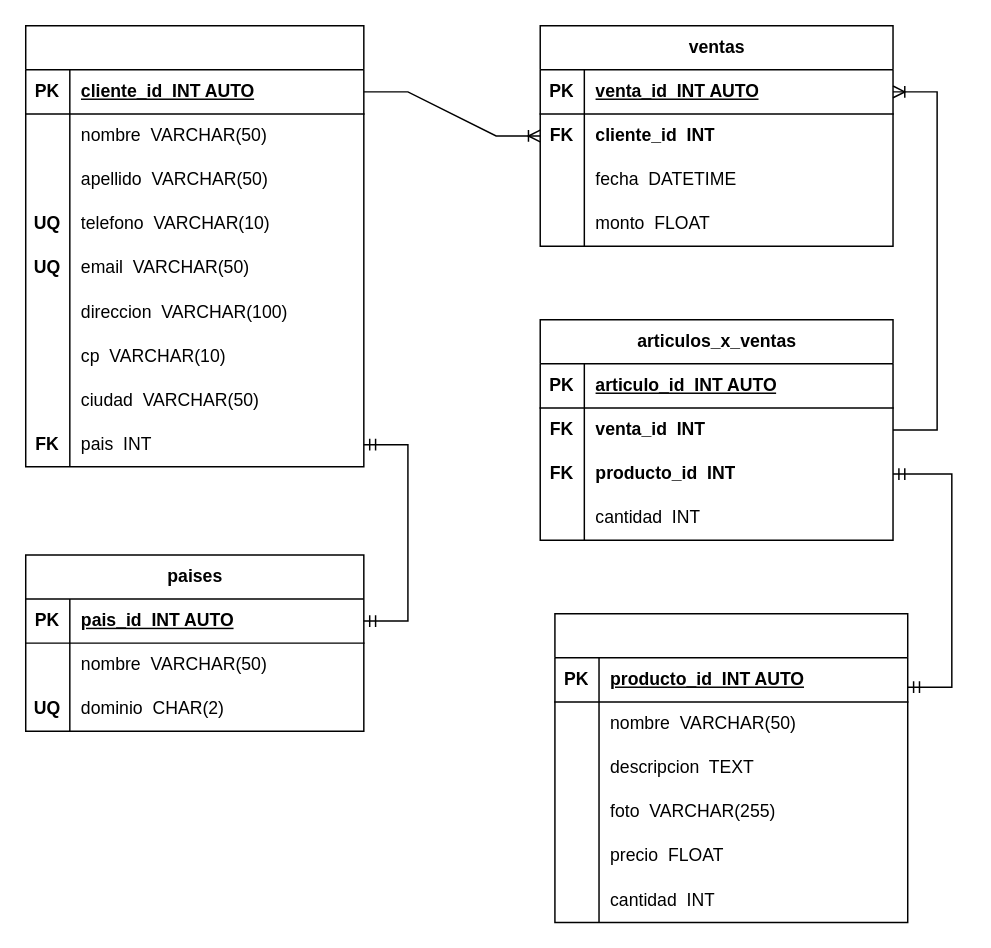
Some shapes in this 991 by 948 pixel diagram are drawn without their labels. Each missing label, with the box of its shape:
clientes: (24, 24, 364, 467)
productos: (553, 612, 908, 922)
